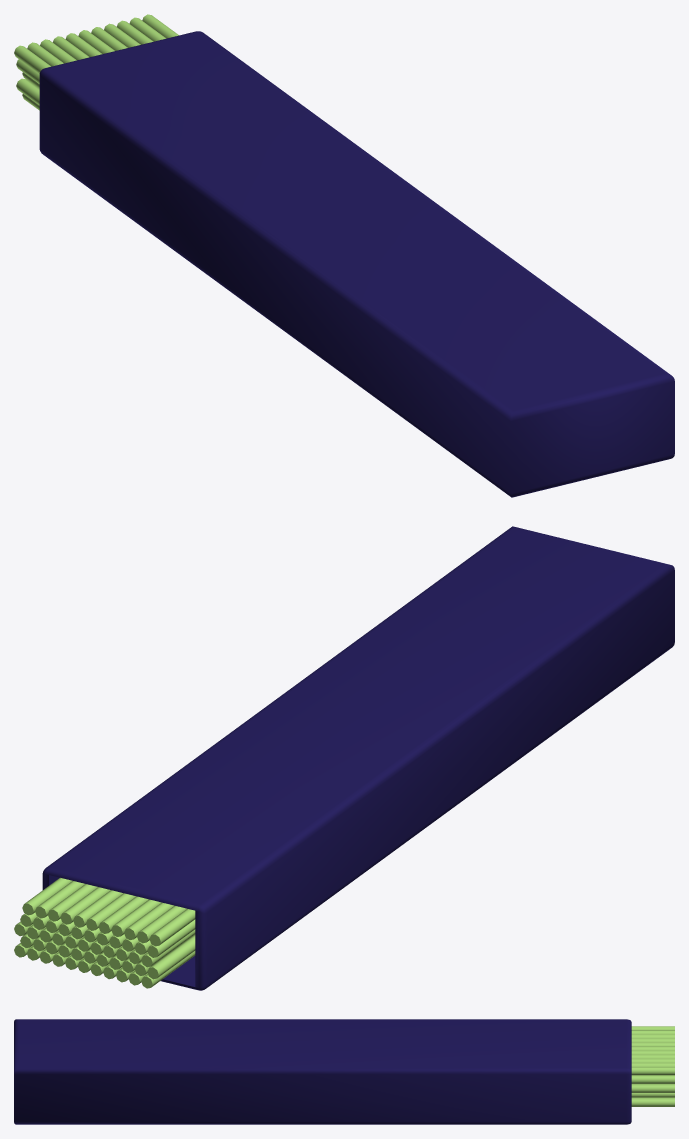
File: Pasta.fbx
3 views of the same model, one above another, from view 1: azimuth 30°, elevation 25°; view 2: azimuth 150°, elevation 25°; view 3: azimuth 270°, elevation 25° (orthographic). The views are drawn at different scales.
Visible parts, largest first — view 1: Object001, Cylinder045; view 2: Object001, Cylinder045; view 3: Object001, Cylinder045.
Part boxes in pixels (x1=…): Object001: x1=39, y1=31, x2=674, y2=497; Cylinder045: x1=14, y1=14, x2=178, y2=110; Object001: x1=42, y1=526, x2=674, y2=990; Cylinder045: x1=14, y1=877, x2=195, y2=988; Object001: x1=14, y1=1019, x2=631, y2=1124; Cylinder045: x1=631, y1=1026, x2=674, y2=1106.
Size of the model in its own units: 1 by 0.5 by 5.35.
